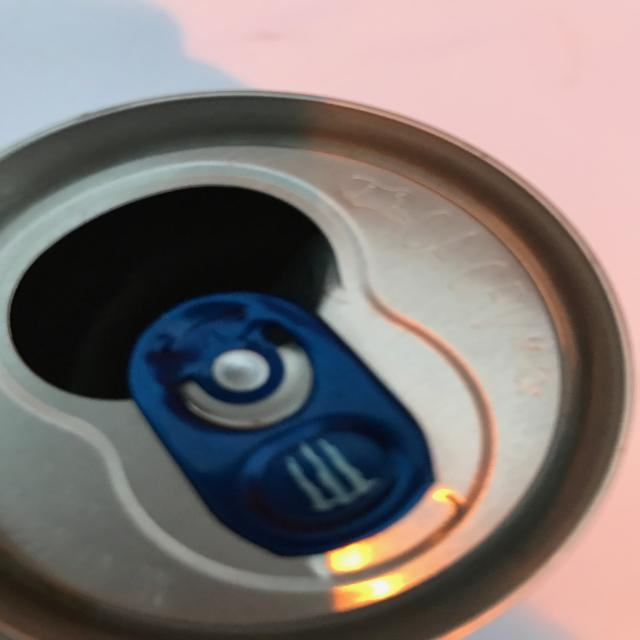Metal: (3, 84, 640, 640)
